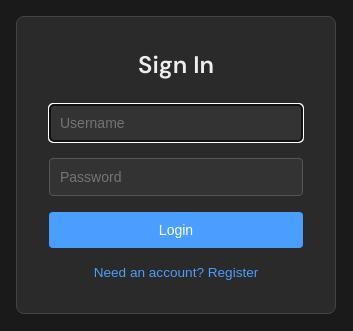
Test: LoginPage › switches to register mode
Click the button "Need an account? Register".
click(176, 272)  # box [94,265,258,280]
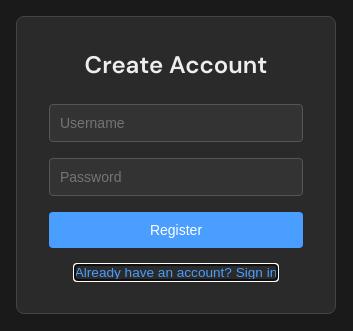
Now the heading "Create Account" is shown, box [85,49,267,80]
Now the button "Register" is shown, box [49,212,303,248]
